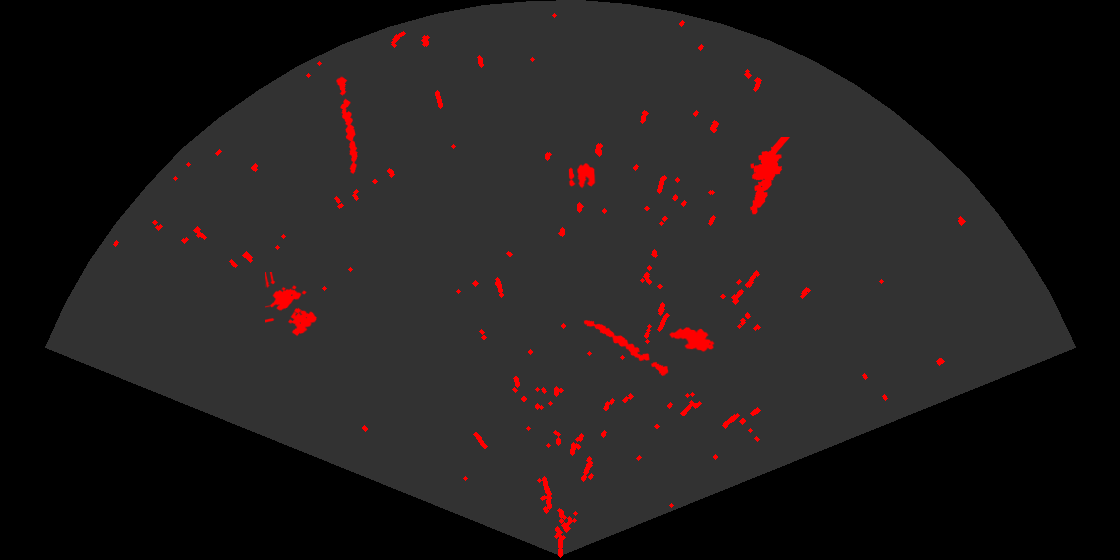AUV: (668, 326, 716, 354)
ball: (567, 162, 597, 190)
cage: (265, 272, 319, 338)
chain: (582, 318, 670, 378), (335, 74, 359, 175)
frogman: (748, 137, 791, 216)
